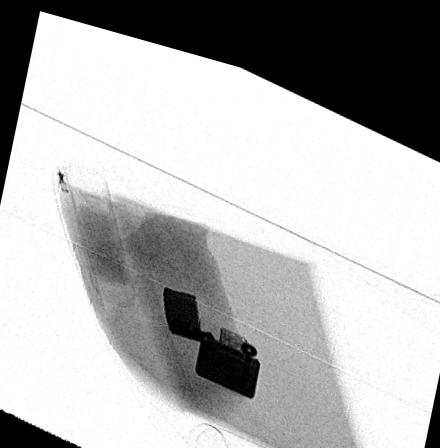Lighter: (161, 275, 261, 386)
